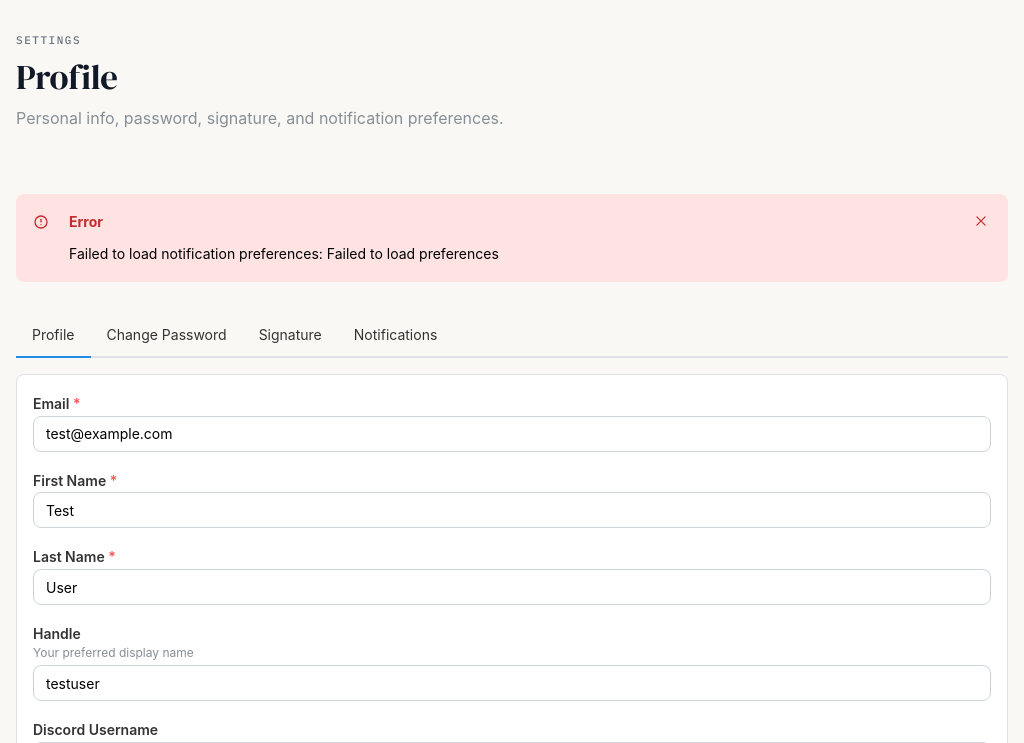
Test: UserProfilePage › shows error message when preferences fail to load
This screenshot has width=1024, height=743.
expect the heading "Profile" is shown: met, box x1=16 y1=53 x2=118 y2=101
Click on notifications tab
What coordinates should you click on to do the following:
click the tab "Notifications"
I would click on:
 (396, 336)
Its box is x1=338 y1=314 x2=453 y2=358.
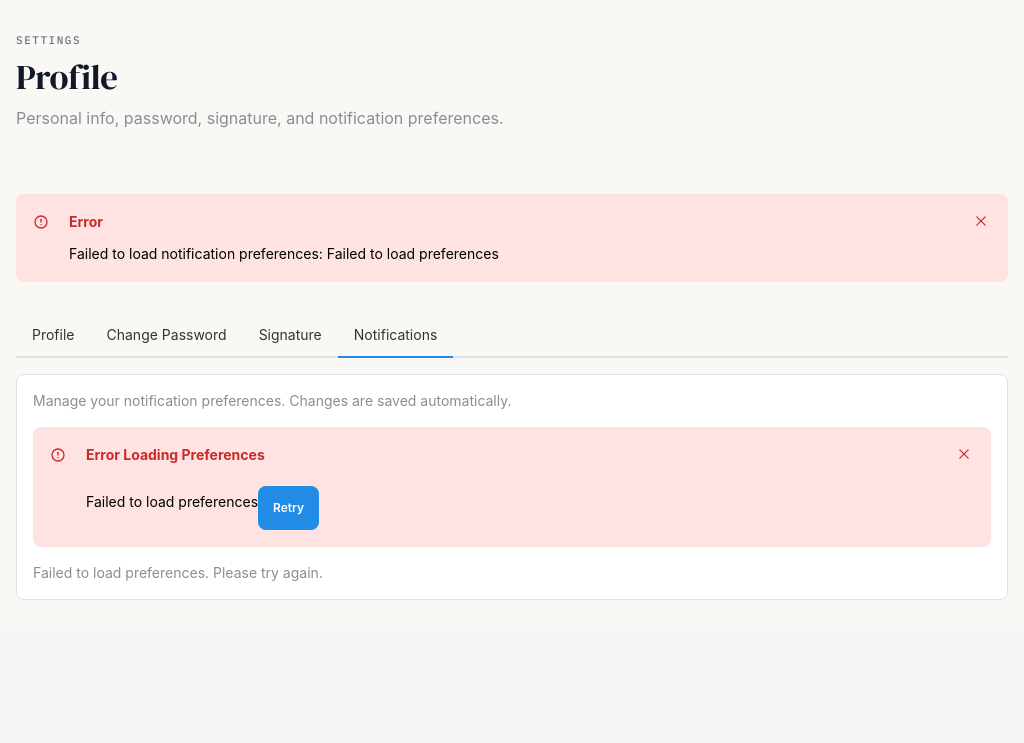
expect the text "Failed to load preferences" is shown: met, box x1=69 y1=245 x2=499 y2=262
expect the text "Error Loading Preferences" is shown: met, box x1=86 y1=444 x2=265 y2=466
